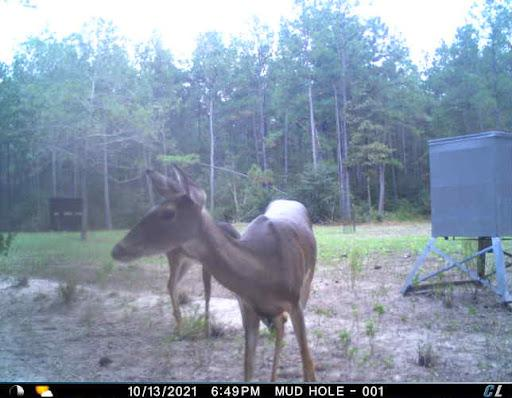Deer: (108, 164, 323, 382)
